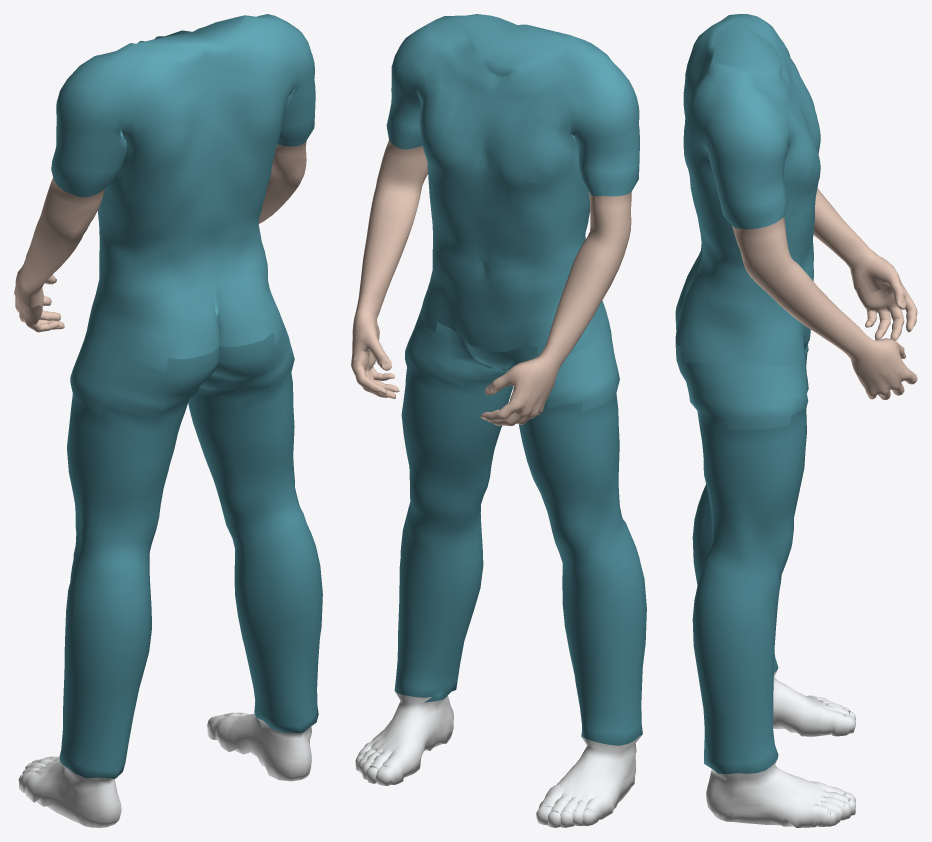
Rendered from medecin.glb.
The picture shows the model from 3 angles, left to right: view 1: azimuth 30°, elevation 25°; view 2: azimuth 150°, elevation 25°; view 3: azimuth 270°, elevation 25°; orthographic projection. The views are drawn at different scales.
Parts seen in each view (by area): view 1: Jambes, Buste; view 2: Buste, Jambes; view 3: Jambes, Buste.
Boxes of the visible parts, <box> form: Jambes: <box>14,279,322,827</box>; Buste: <box>15,14,315,372</box>; Buste: <box>352,14,639,400</box>; Jambes: <box>351,308,646,827</box>; Jambes: <box>675,286,917,827</box>; Buste: <box>675,14,906,376</box>.
Size of the model in its own units: 0.5311 by 1.52 by 0.4601.
